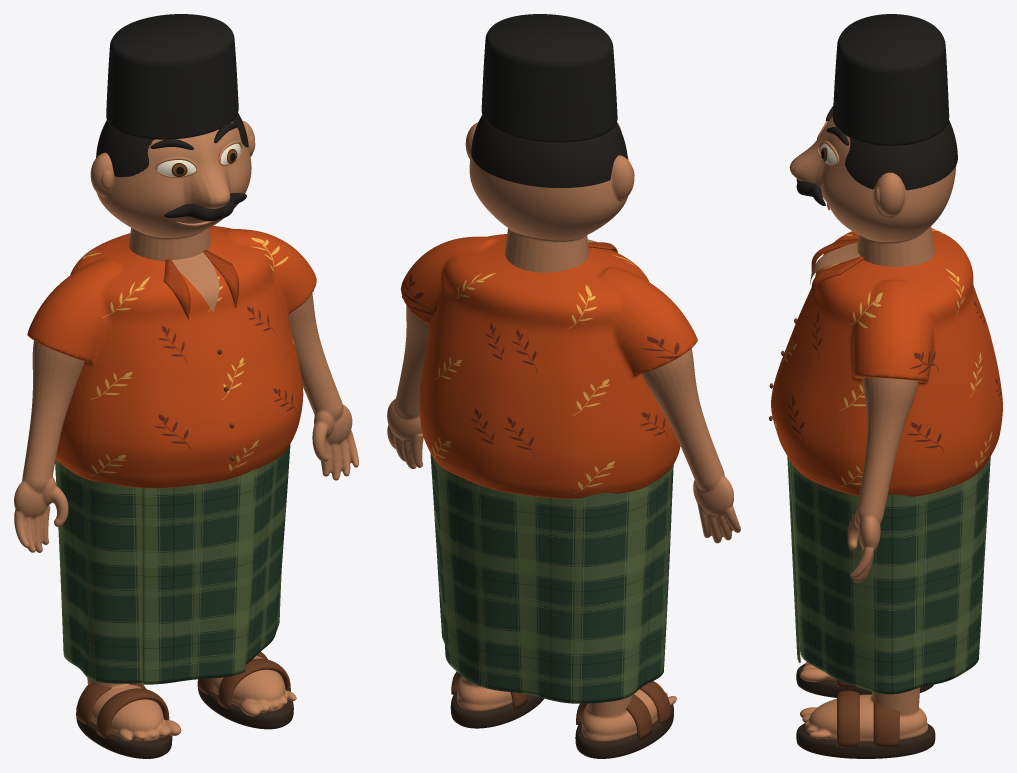
Rendered from pak_mat_A.glb.
3 views of the same model, side by side, from view 1: azimuth 30°, elevation 25°; view 2: azimuth 150°, elevation 25°; view 3: azimuth 270°, elevation 25° (orthographic). The views are drawn at different scales.
Visible parts, largest first — view 1: A_batik_shirt, A_sarong_wrap, A_sarong_front_overlap, A_songkok, A_head_neck_ears, A_right_arm_hand, A_left_arm_hand, A_feet_ankles, A_sandal_straps, A_sandal_soles, A_hair, A_batik_collar (+2 smaller); view 2: A_batik_shirt, A_sarong_wrap, A_songkok, A_head_neck_ears, A_right_arm_hand, A_hair, A_left_arm_hand, A_feet_ankles, A_sandal_soles, A_sandal_straps; view 3: A_batik_shirt, A_sarong_wrap, A_songkok, A_head_neck_ears, A_left_arm_hand, A_hair, A_feet_ankles, A_sandal_soles, A_sandal_straps, A_batik_collar, A_sarong_front_overlap, A_upper_chest_inset (+1 smaller).
Boxes of the visible parts, x1,y1,x2,y2 form: A_batik_shirt: (27,226,316,488); A_sarong_wrap: (55,444,290,683); A_sarong_front_overlap: (142,469,254,684); A_songkok: (106,14,238,139); A_head_neck_ears: (90,120,254,261); A_right_arm_hand: (14,340,84,552); A_left_arm_hand: (288,293,358,480); A_feet_ankles: (84,655,296,741); A_sandal_straps: (76,652,290,738); A_sandal_soles: (76,679,293,758); A_hair: (96,113,248,177); A_batik_collar: (163,250,238,319); A_batik_shirt: (400,234,697,498); A_sarong_wrap: (430,453,673,703); A_songkok: (481,14,617,142); A_head_neck_ears: (465,122,634,272); A_right_arm_hand: (642,348,740,543); A_hair: (471,115,627,187); A_left_arm_hand: (387,305,429,469); A_feet_ankles: (457,675,676,741); A_sandal_soles: (450,691,673,758); A_sandal_straps: (451,671,670,739); A_batik_shirt: (771,228,1002,496); A_sarong_wrap: (791,457,990,694); A_songkok: (832,14,949,145); A_head_neck_ears: (789,116,956,266); A_left_arm_hand: (847,377,918,582); A_hair: (845,120,957,190); A_feet_ankles: (800,662,928,741); A_sandal_soles: (796,664,935,758); A_sandal_straps: (837,679,899,747); A_batik_collar: (811,239,863,300); A_sarong_front_overlap: (787,456,800,662); A_upper_chest_inset: (809,242,860,284).
Size of the model in its own units: 0.877 by 1.66 by 0.522.
12 materials, 6 textured.
